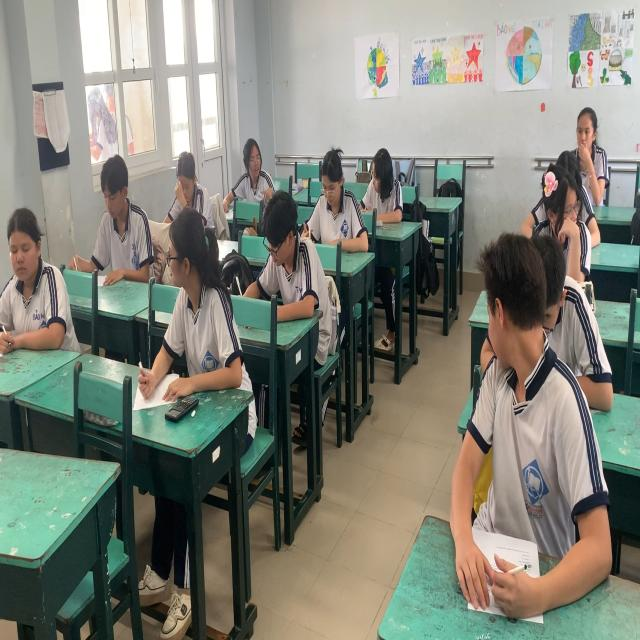cheating: (466, 250, 591, 598), (161, 218, 231, 398), (532, 174, 591, 257), (368, 132, 408, 229), (231, 142, 270, 198)
not_cheating: (0, 190, 68, 360), (91, 150, 157, 291), (256, 192, 317, 322), (308, 132, 360, 257), (161, 142, 206, 219), (566, 112, 600, 167)
